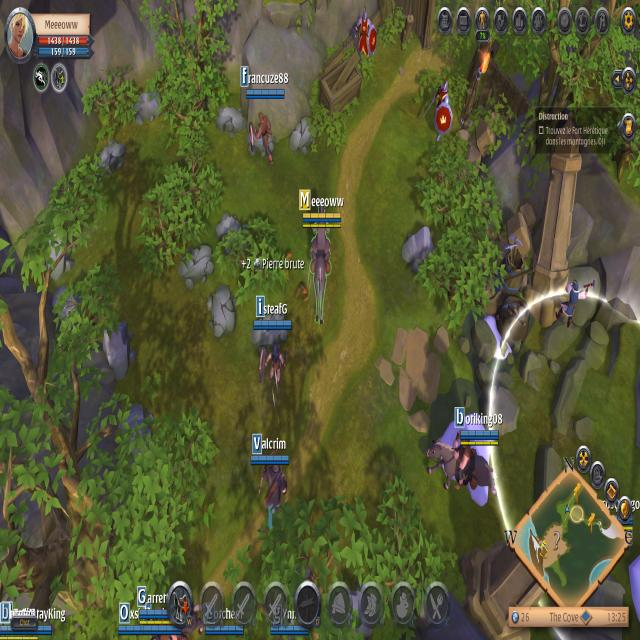broken stone: (206, 279, 239, 343), (176, 242, 216, 292), (215, 205, 250, 262), (251, 302, 289, 350), (92, 136, 127, 187), (212, 96, 246, 140), (287, 111, 318, 157)
stone: (113, 399, 155, 466), (99, 316, 138, 380), (399, 220, 437, 279), (42, 228, 77, 282), (132, 80, 168, 126)
